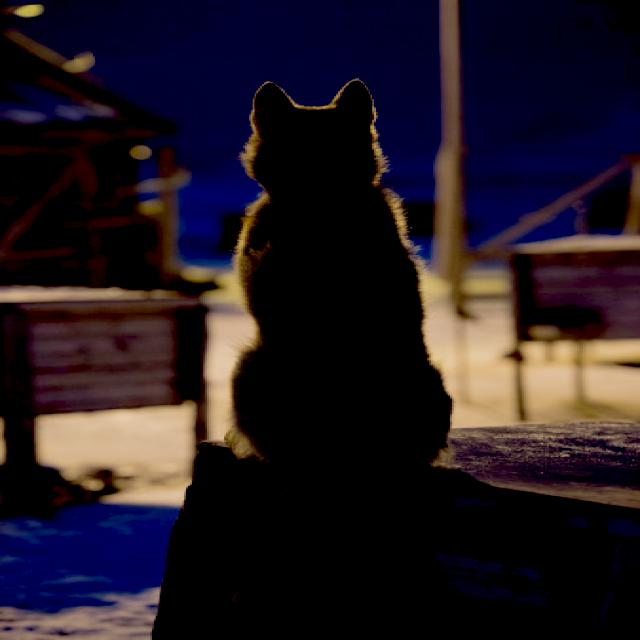Dog: (120, 20, 572, 580)
